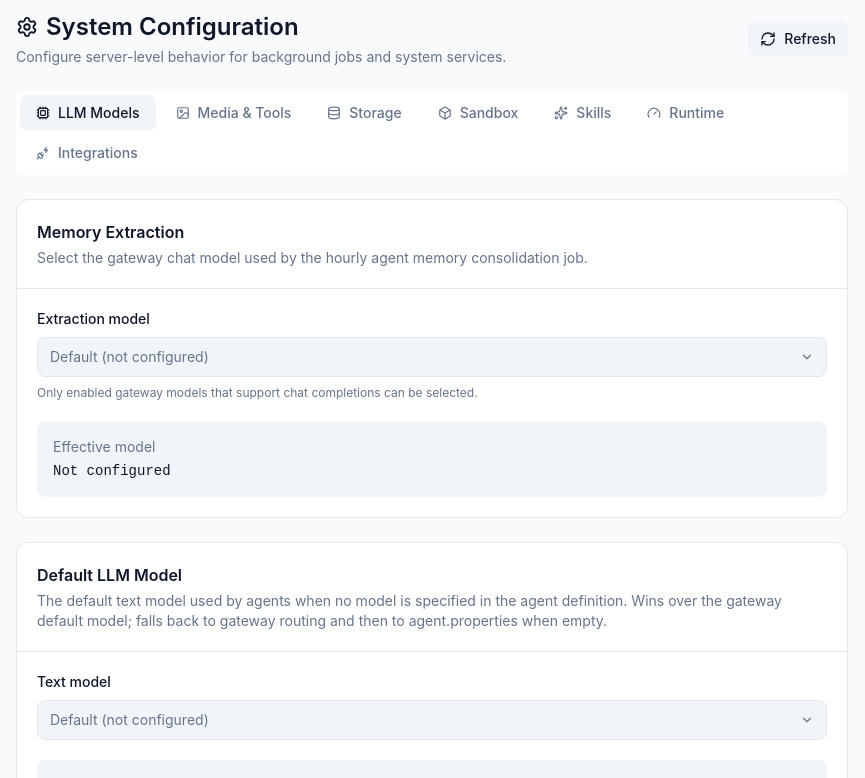
it: SystemSettings skill repo sync control › defaults to enabled with the default interval when unset
This screenshot has width=865, height=778.
Click the button "Skills" at point(583, 113), box [538, 95, 627, 131]
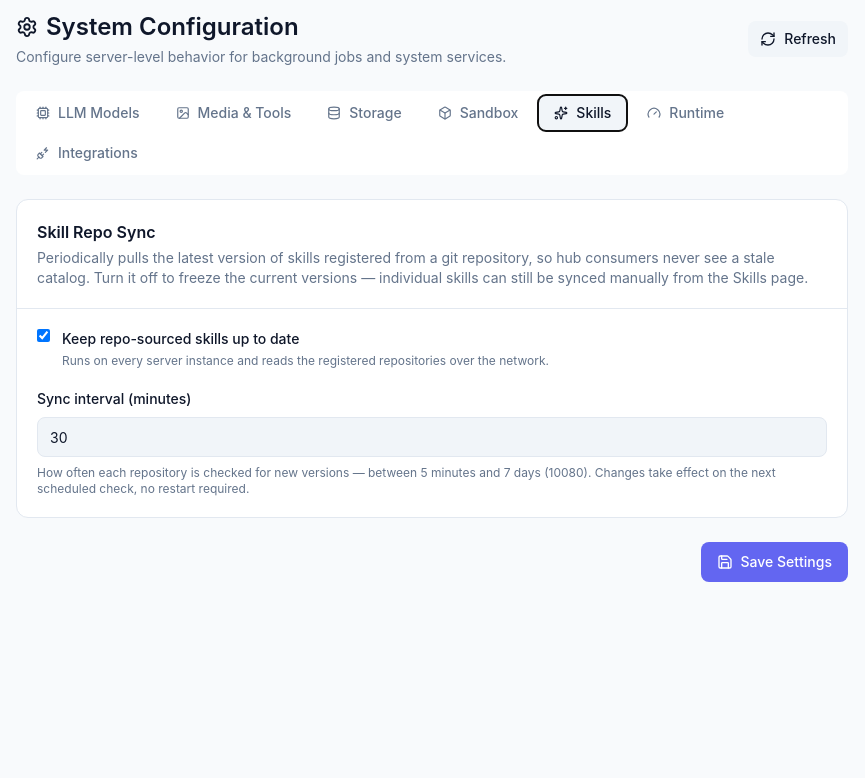
Result: the checkbox labelled "Keep repo-sourced skills up to date" is checked at [37, 329, 50, 342]
Result: the number field labelled "Sync interval" holds "30" at [37, 417, 827, 457]
Result: the number field labelled "Sync interval" is enabled at [37, 417, 827, 457]
